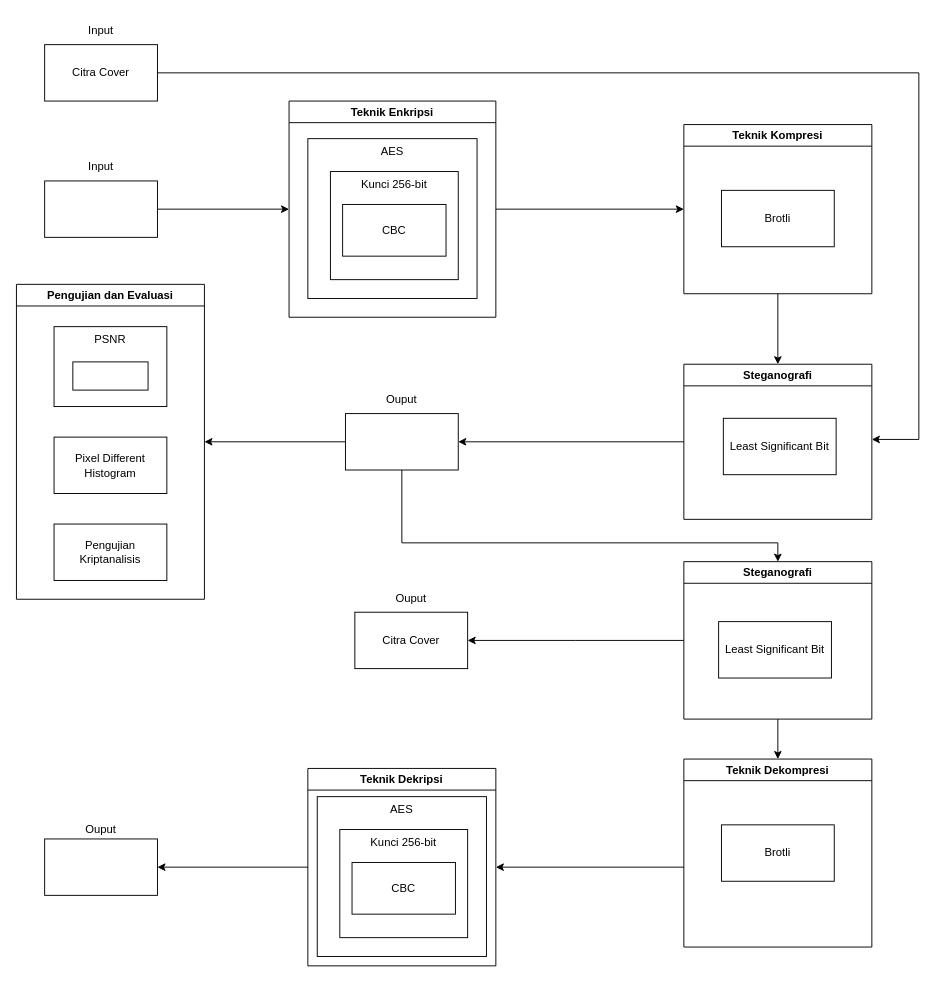
Image size: 943x982. Some labels were removed from this diagram. Each missing label, with the centre of its shape:
"Citra Gambar dan Teks Rahasia" goes at pixel 100 866.
"Citra Stego yang telah disisipkan" goes at pixel 401 441.
"Input Citra Gambar dan Teks" goes at pixel 100 208.
"MSE" goes at pixel 110 375.
